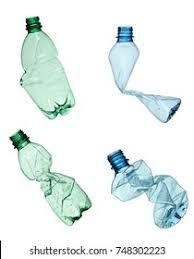plastic: (21, 24, 80, 123), (118, 27, 173, 126)
